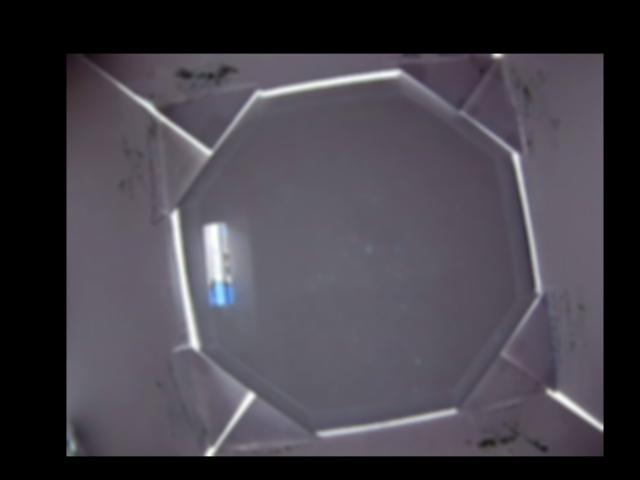Battery: (199, 221, 233, 309)
